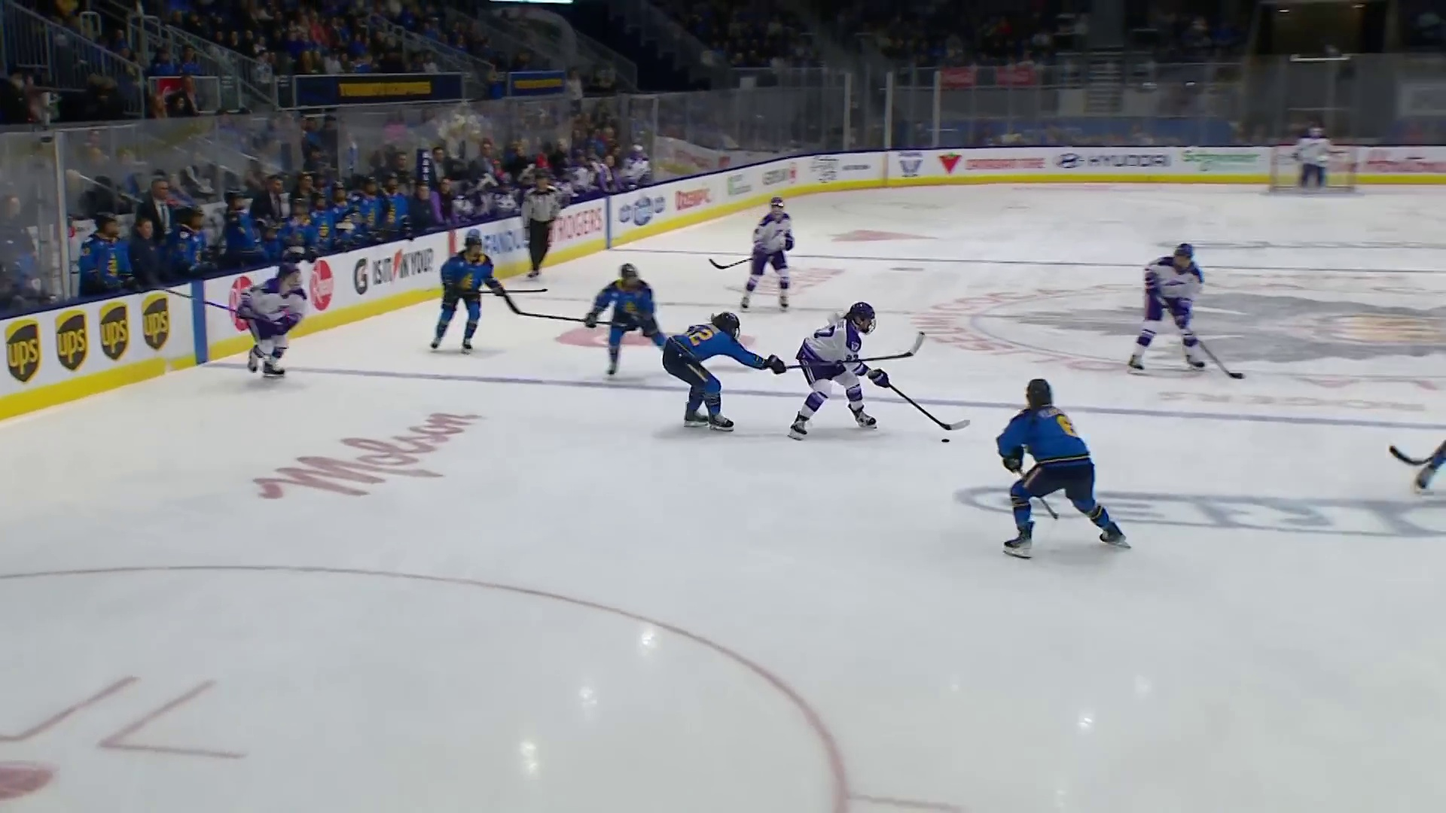goalkeeper: (1294, 123, 1333, 194)
player: (993, 376, 1135, 562), (663, 307, 787, 433), (784, 300, 893, 442), (1124, 239, 1205, 376), (588, 262, 677, 383), (428, 235, 511, 356), (237, 261, 308, 382), (939, 438, 951, 443)
referee: (520, 172, 560, 276)
